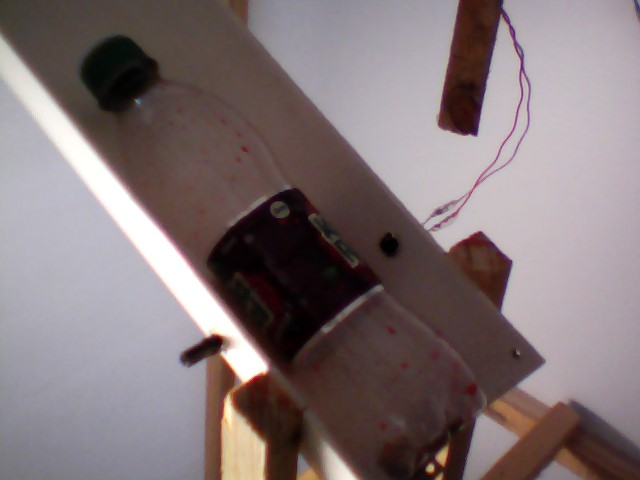plastico: (78, 23, 493, 478)
